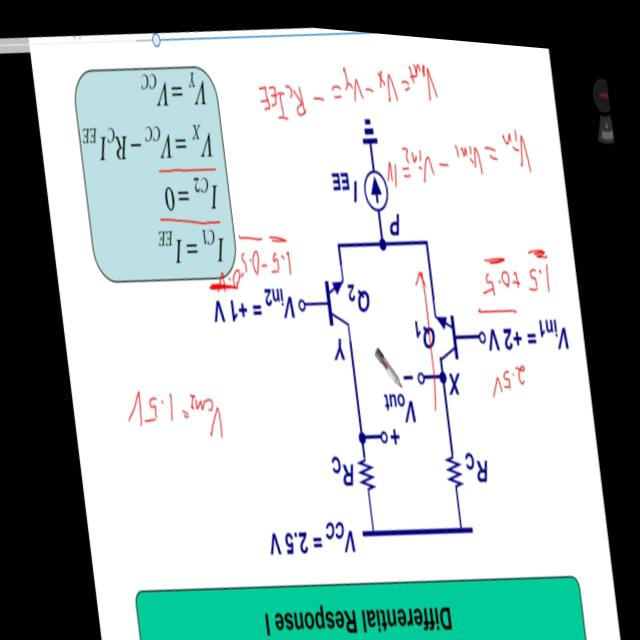panseo: (242, 17, 539, 228), (101, 343, 252, 467), (460, 224, 562, 307), (207, 218, 306, 294), (478, 335, 535, 405)
